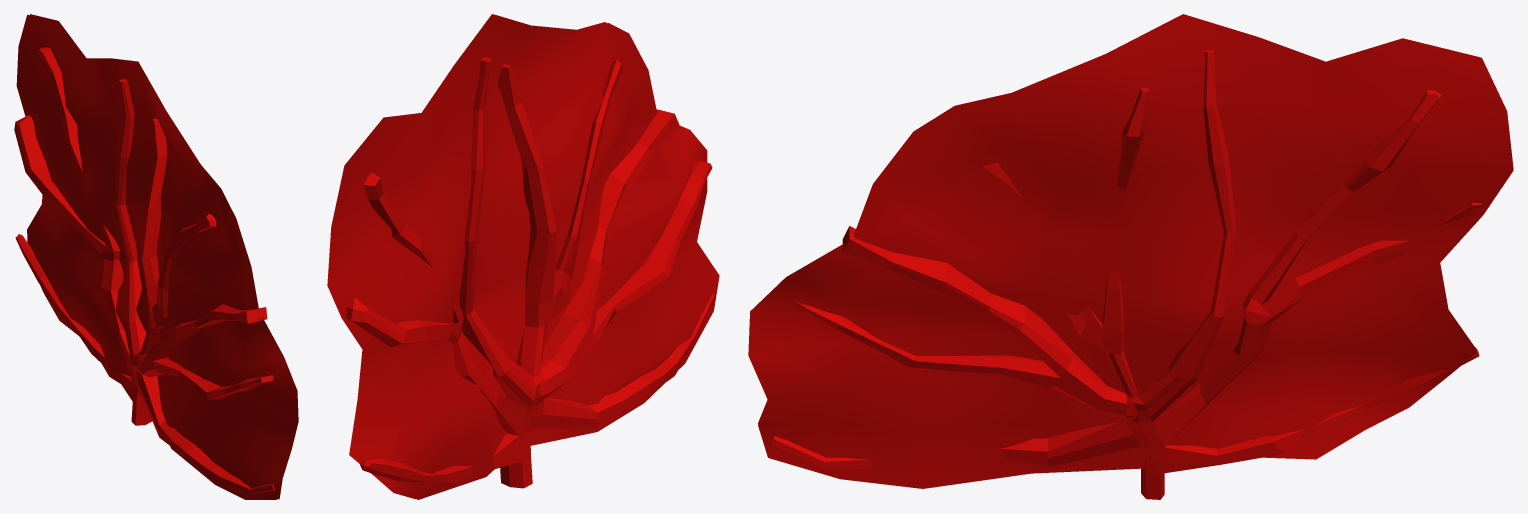
Rendered from RoodKoraal 1.fbx.
3 views of the same model, side by side, from view 1: azimuth 30°, elevation 25°; view 2: azimuth 150°, elevation 25°; view 3: azimuth 270°, elevation 25° (orthographic). The views are drawn at different scales.
Visible parts, largest first — view 1: CubeRoodKoraal; view 2: CubeRoodKoraal; view 3: CubeRoodKoraal.
Boxes of the visible parts, box(x1,y1,x2,y2) form: CubeRoodKoraal: box(14, 14, 298, 499); CubeRoodKoraal: box(327, 14, 719, 499); CubeRoodKoraal: box(748, 14, 1513, 499).
Size of the model in its own units: 100 by 620 by 890.
